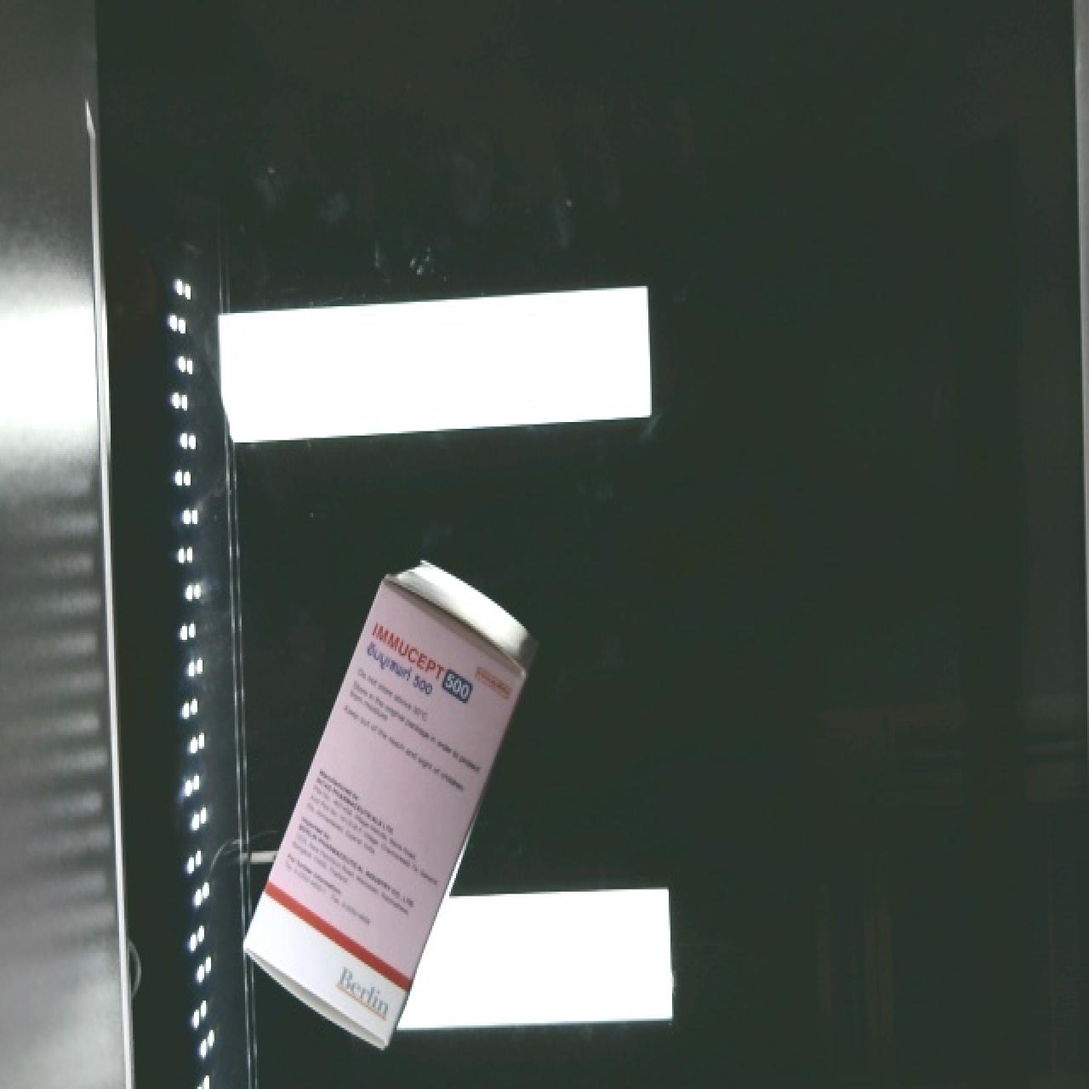medicine_label_obb: (360, 609, 493, 717)
